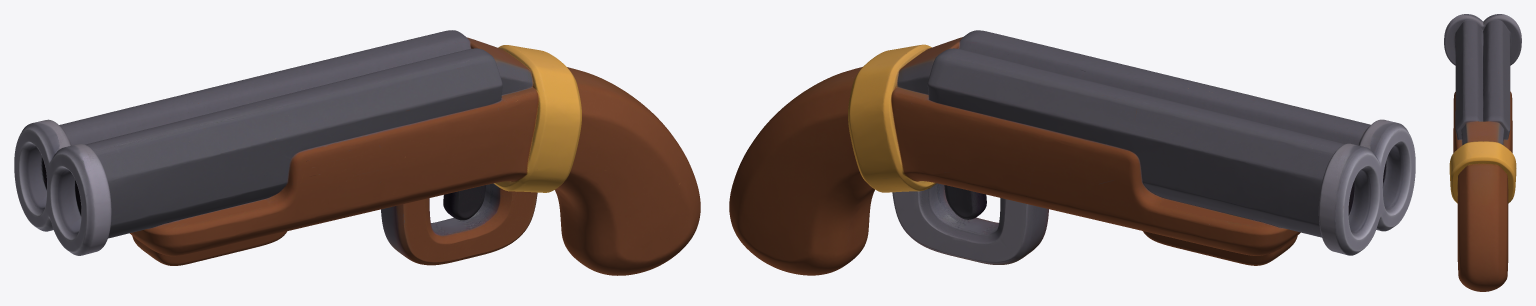
Rendered from margot_waffe_original.glb.
3 renders of one model, left to right at view 1: azimuth 30°, elevation 25°; view 2: azimuth 150°, elevation 25°; view 3: azimuth 270°, elevation 25°, orthographic. The views are drawn at different scales.
Size of the model in its own units: 1.9 by 0.7629 by 0.4001.
1 material, 1 textured.
